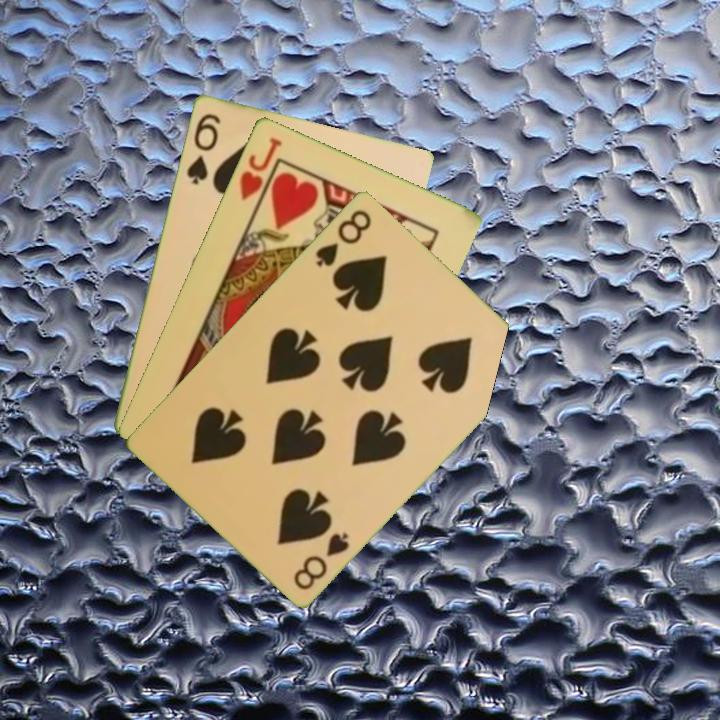6s: (182, 109, 223, 187)
8s: (290, 528, 353, 593), (312, 205, 375, 269)
Jh: (235, 133, 285, 203)
